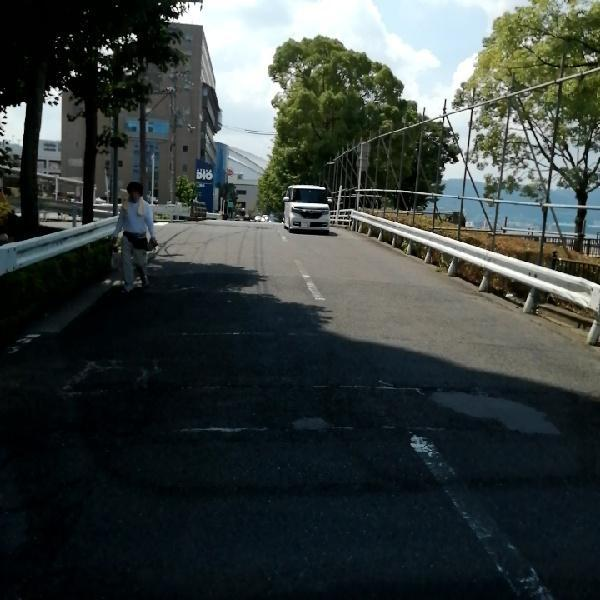pothole: (426, 388, 562, 431), (290, 413, 349, 430), (176, 423, 267, 434)
